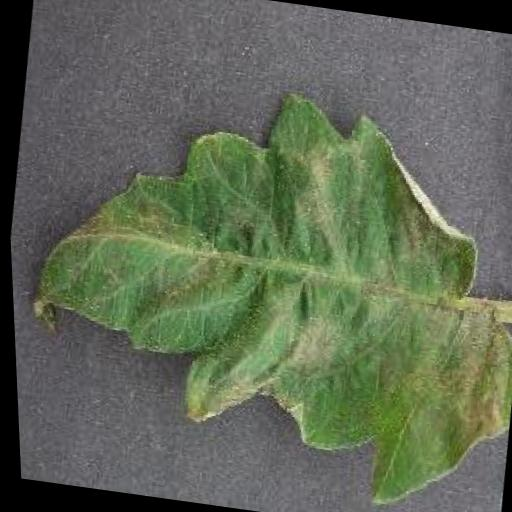Late Blight: (2, 57, 512, 512)
